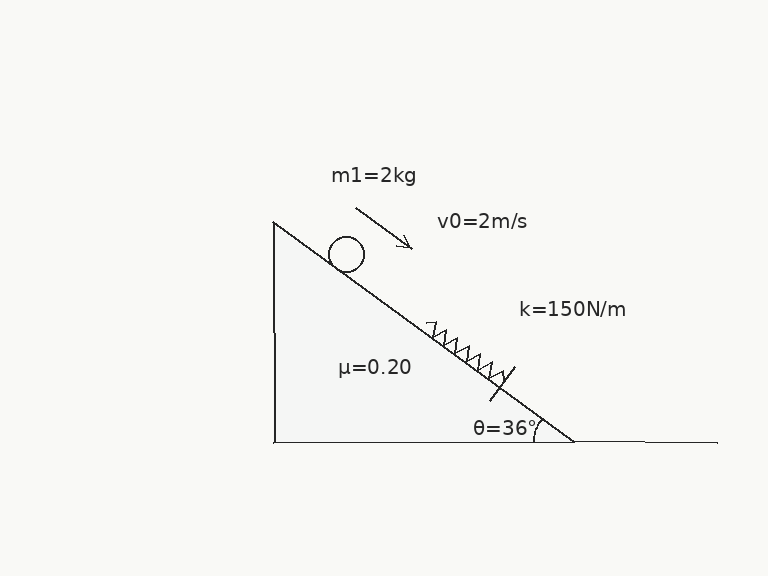ball: (326, 234, 366, 274)
ramp: (271, 221, 576, 444)
spring: (424, 320, 506, 382)
